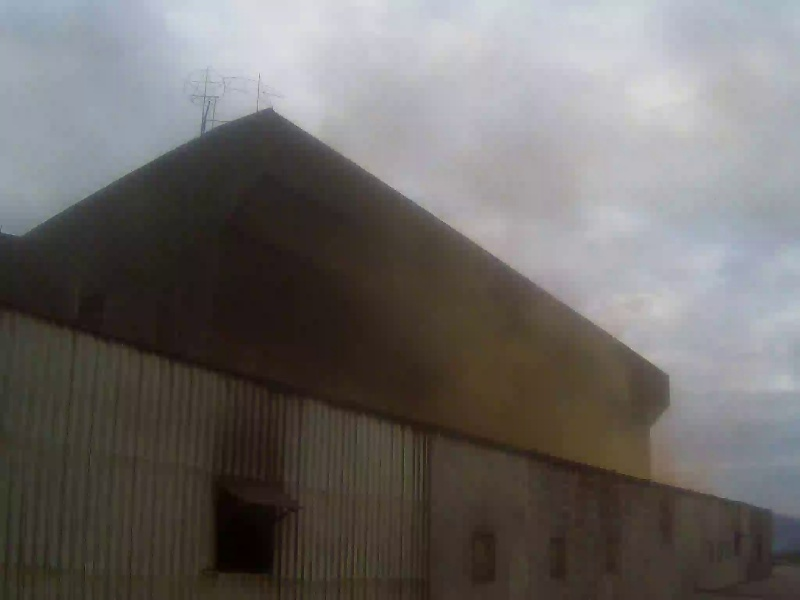Pessimo: (374, 213, 697, 487)
